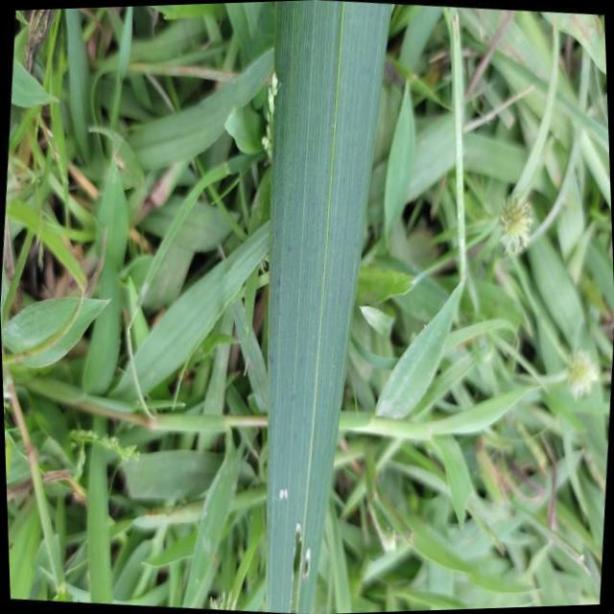Boron: (252, 0, 404, 612)
